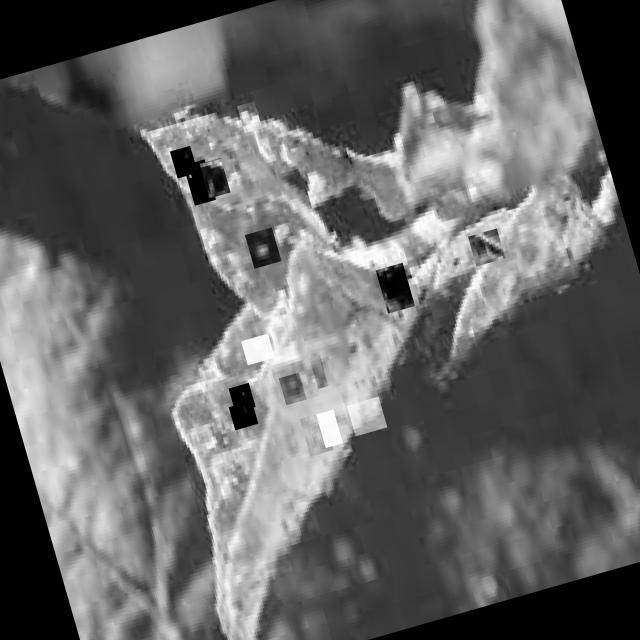aphid: (375, 262, 414, 313), (346, 396, 386, 436), (182, 159, 215, 205), (243, 227, 280, 268), (298, 412, 332, 456), (286, 354, 318, 400), (467, 228, 504, 266), (292, 355, 328, 393), (262, 218, 296, 256), (198, 158, 229, 198), (314, 409, 342, 448), (240, 333, 274, 365), (168, 145, 196, 178), (227, 400, 257, 430), (277, 372, 305, 404), (227, 382, 254, 412), (236, 101, 260, 133)
